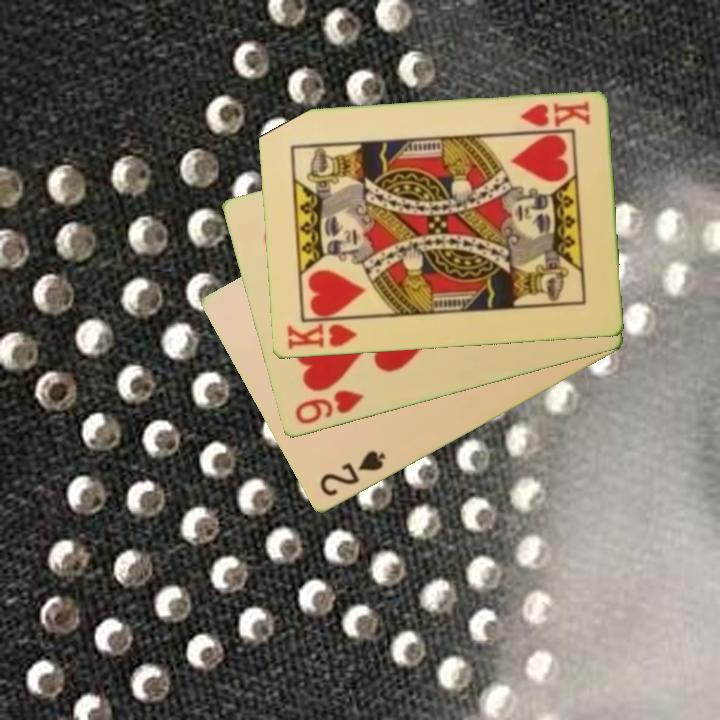2s: (316, 447, 389, 500)
9h: (291, 387, 366, 428)
Kh: (283, 315, 364, 353), (516, 98, 593, 131)
